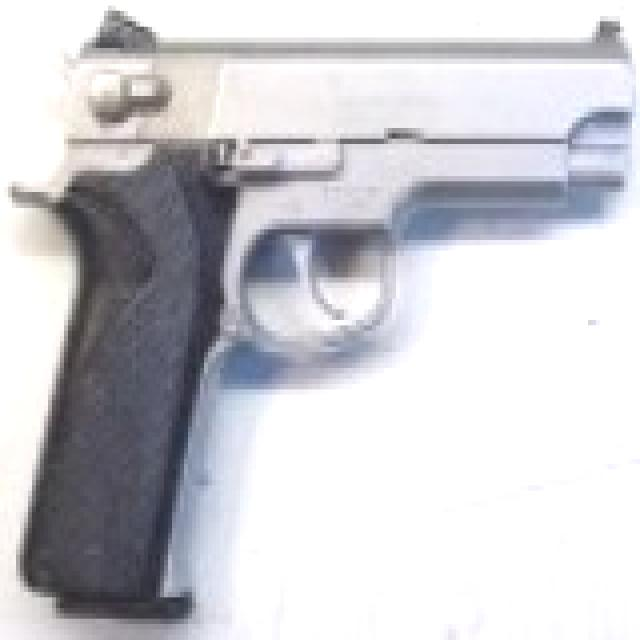pistol: (16, 0, 636, 629)
